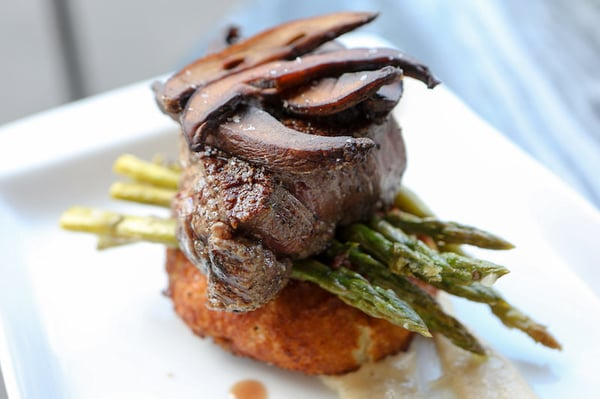soup: (158, 8, 549, 381)
